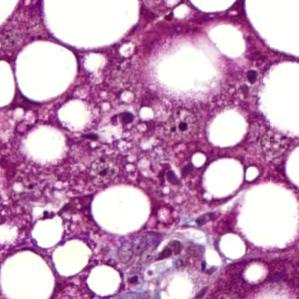steatosis: (10, 42, 82, 100), (92, 183, 154, 236), (202, 160, 246, 196)
